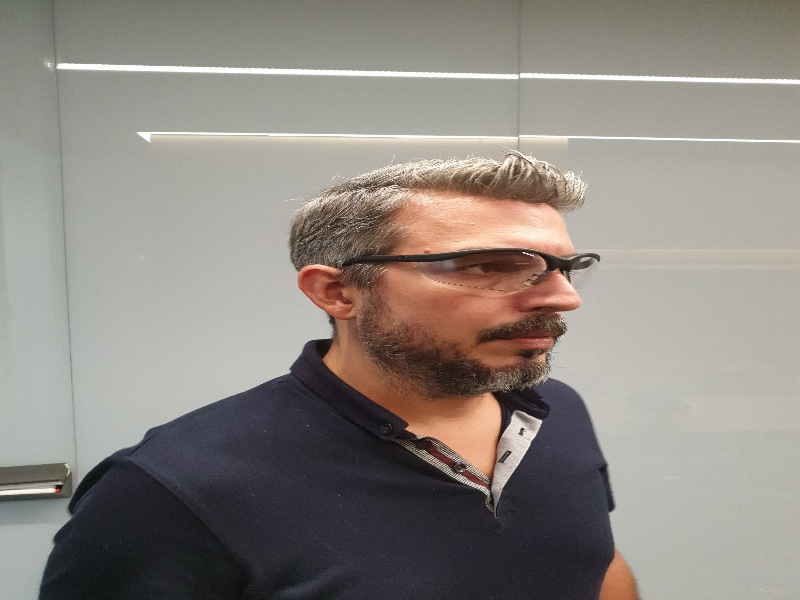Gozluk: (344, 247, 604, 299)
